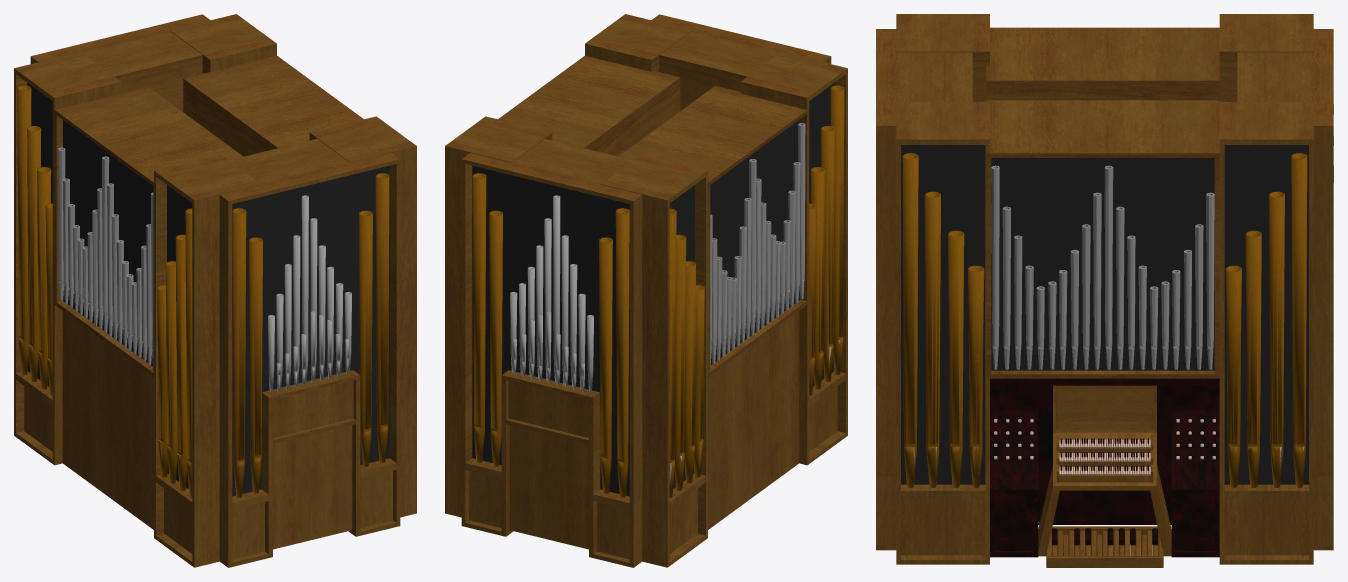
Rendered from obj_pipe_organs_a8c079.glb.
3 renders of one model, left to right at view 1: azimuth 30°, elevation 25°; view 2: azimuth 150°, elevation 25°; view 3: azimuth 270°, elevation 25°, orthographic. The views are drawn at different scales.
Visible parts, largest first — view 1: obj_pipe_organs_a8c079; view 2: obj_pipe_organs_a8c079; view 3: obj_pipe_organs_a8c079.
Part boxes in pixels (x1,y1,x2,y2): obj_pipe_organs_a8c079: [14, 14, 416, 567]; obj_pipe_organs_a8c079: [445, 14, 847, 567]; obj_pipe_organs_a8c079: [876, 14, 1333, 567].
Bounding box in the file's own units: 0.394 × 0.6 × 0.5859.
5 materials, 4 textured.
